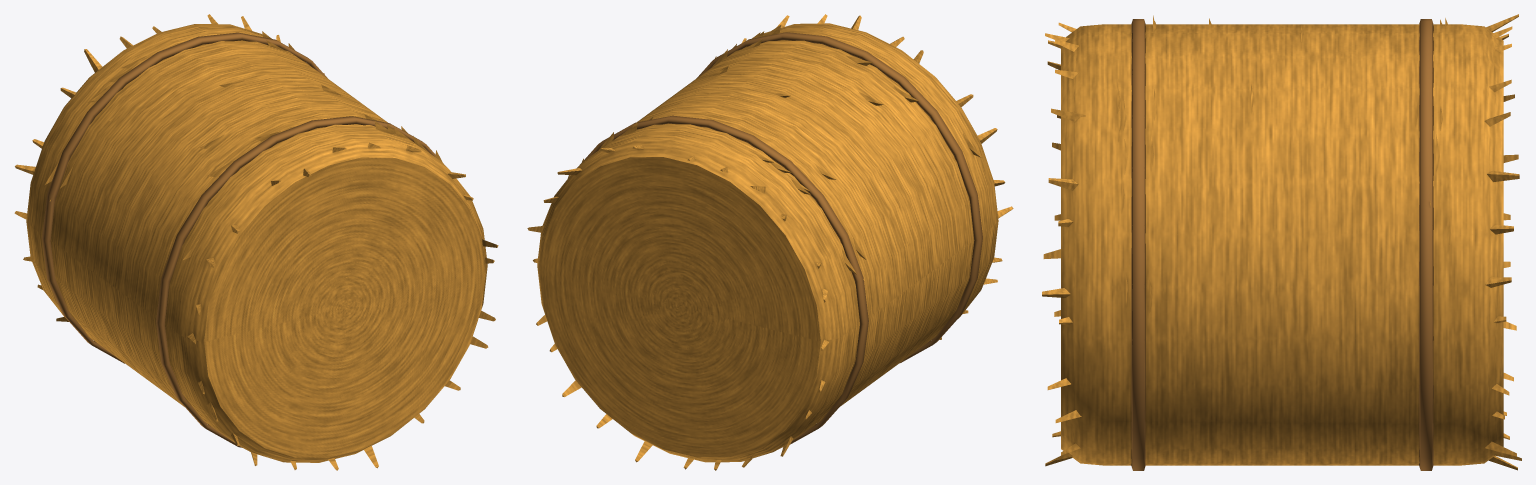
The model's file is hay-bale.fbx.
3 renders of one model, left to right at view 1: azimuth 30°, elevation 25°; view 2: azimuth 150°, elevation 25°; view 3: azimuth 270°, elevation 25°, orthographic. The views are drawn at different scales.
Parts seen in each view (by area): view 1: hay-bale; view 2: hay-bale; view 3: hay-bale.
Part boxes in pixels (x1=…): hay-bale: x1=14, y1=14, x2=498, y2=470; hay-bale: x1=527, y1=14, x2=1013, y2=470; hay-bale: x1=1042, y1=14, x2=1521, y2=470.
Bounding box in the file's own units: 757 × 757 × 800.
1 material, 1 textured.
